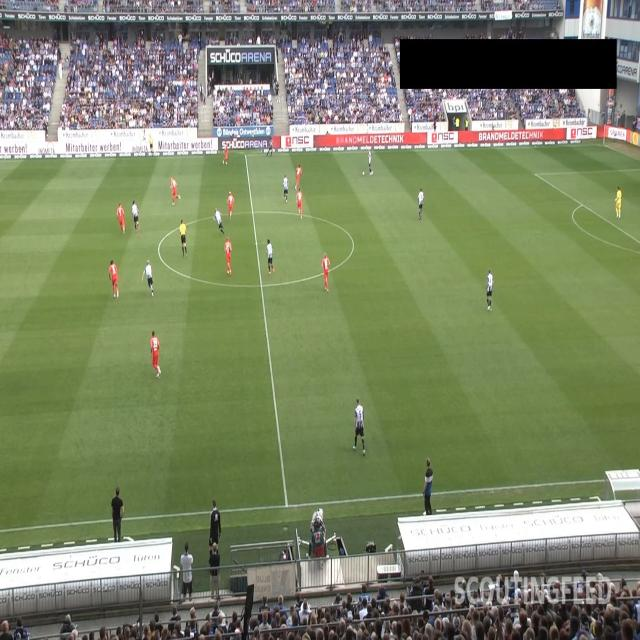ball: (362, 170, 365, 176)
